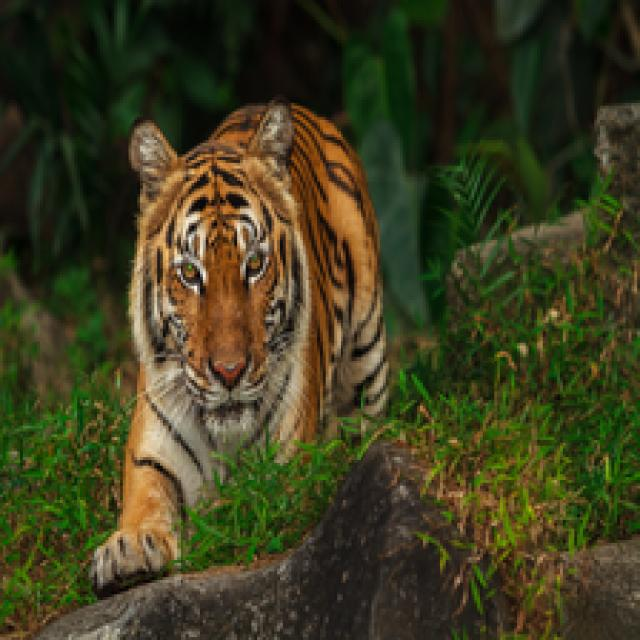tiger: (101, 88, 387, 579)
